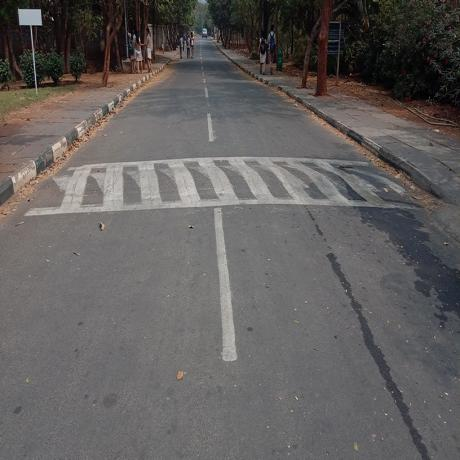Speed Bump: (20, 162, 417, 210)
